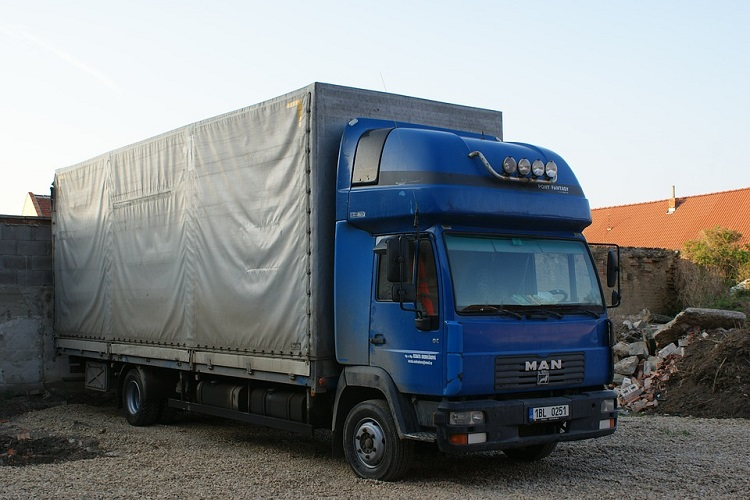truck: (48, 79, 621, 482)
